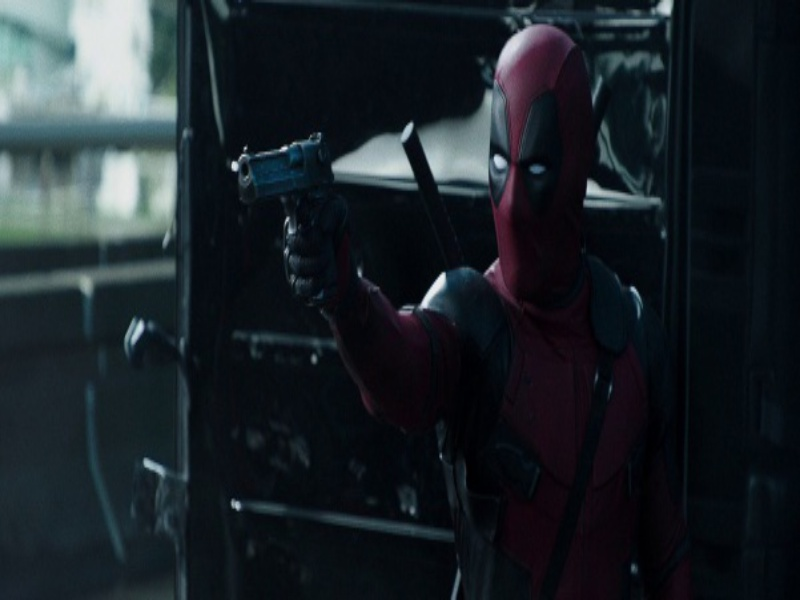person: (286, 24, 690, 595)
weapon: (237, 134, 342, 240)
